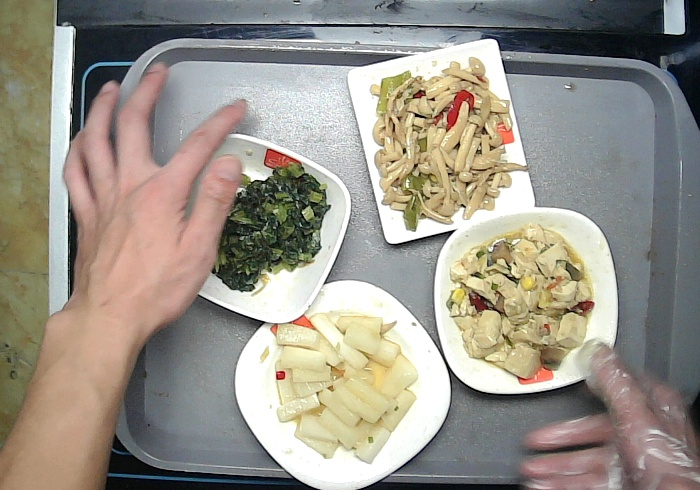SHKJ-Bai_Se_Cai_Die: (428, 205, 626, 400)
SHKJ-Bai_Se_Si_Fang_Cai_Die: (231, 278, 456, 489)
SHKJ-Bai_Se_Xiao_Fang_Die: (160, 127, 355, 326)
SHKJ-Si_Fang_Min: (345, 37, 541, 252)
